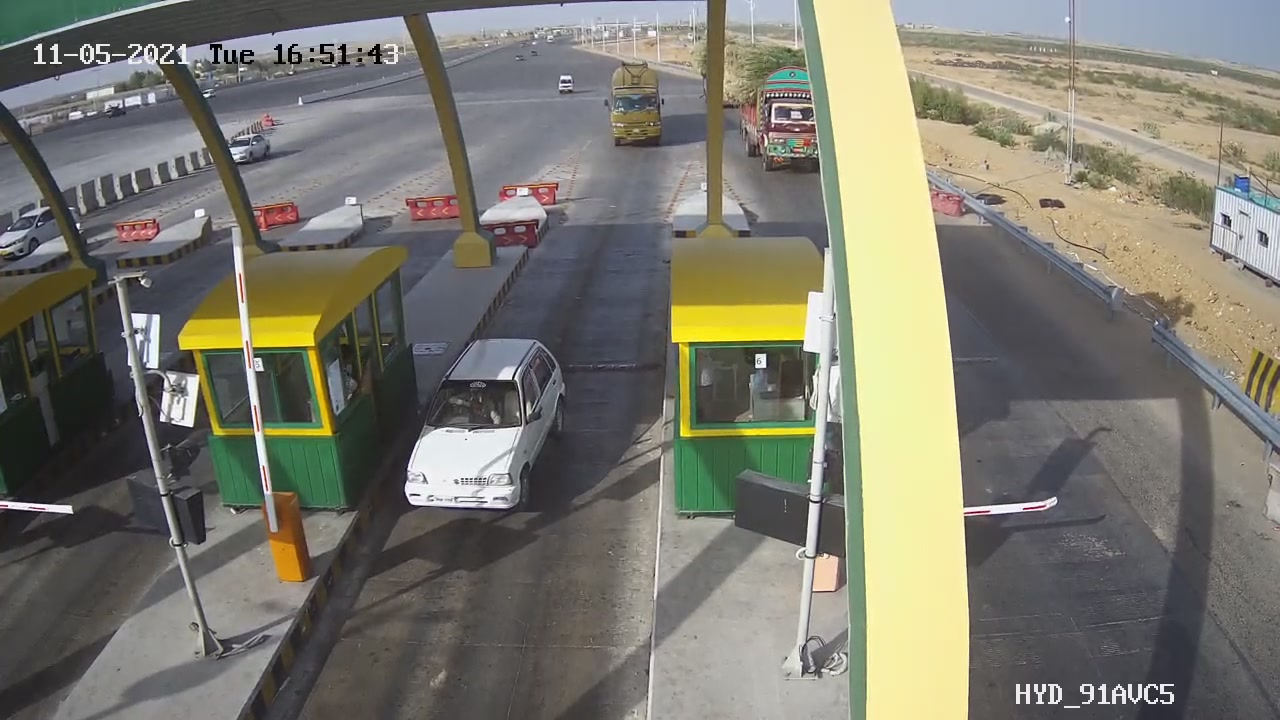F1: (384, 320, 588, 531)
